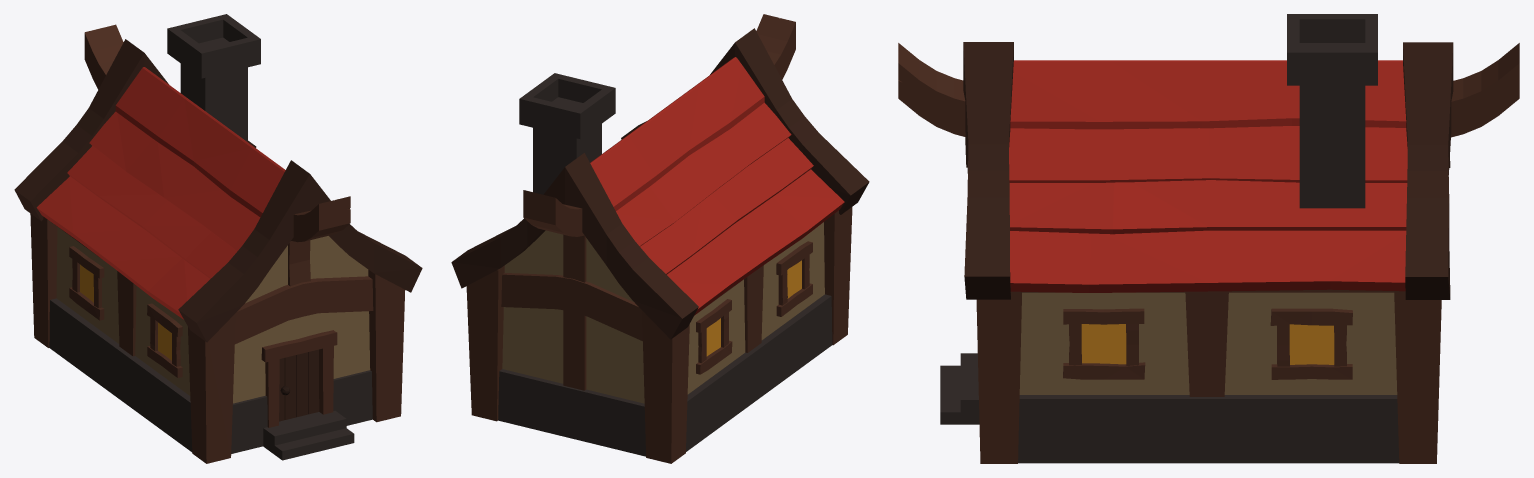
The model's file is house.obj.
The picture shows the model from 3 angles, left to right: view 1: azimuth 30°, elevation 25°; view 2: azimuth 150°, elevation 25°; view 3: azimuth 270°, elevation 25°; orthographic projection. The views are drawn at different scales.
Visible parts, largest first — view 1: House_Cube.063; view 2: House_Cube.063; view 3: House_Cube.063.
Part boxes in pixels (x1=…): House_Cube.063: x1=14, y1=14, x2=422, y2=463; House_Cube.063: x1=451, y1=14, x2=869, y2=463; House_Cube.063: x1=898, y1=14, x2=1519, y2=463.
Size of the model in its own units: 9.75 by 12.33 by 17.53.
